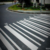zebra: (1, 15, 50, 50)
